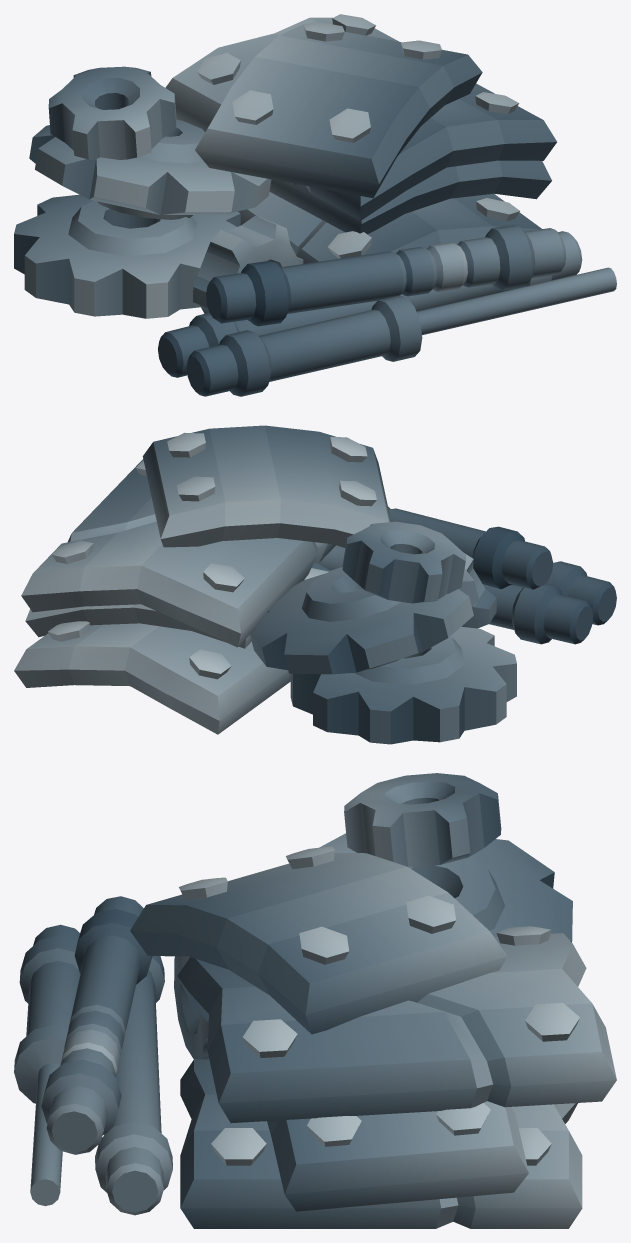
Rendered from parts_pile_large.glb.
3 views of the same model, one above another, from view 1: azimuth 30°, elevation 25°; view 2: azimuth 150°, elevation 25°; view 3: azimuth 270°, elevation 25° (orthographic). The views are drawn at different scales.
Visible parts, largest first — view 1: Parts_Pile_Large; view 2: Parts_Pile_Large; view 3: Parts_Pile_Large.
Part boxes in pixels (<box>): Parts_Pile_Large: <box>14,14,616,396</box>; Parts_Pile_Large: <box>14,425,616,744</box>; Parts_Pile_Large: <box>14,773,616,1228</box>.
Bounding box in the file's own units: 1.04 × 0.4348 × 0.9391.
Materials: 1 (1 with a texture image).
